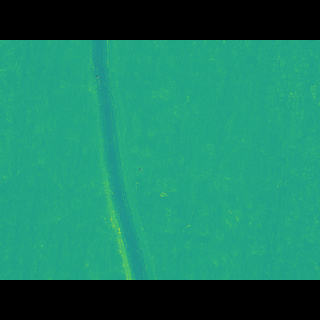Loch: (85, 69, 153, 250)
